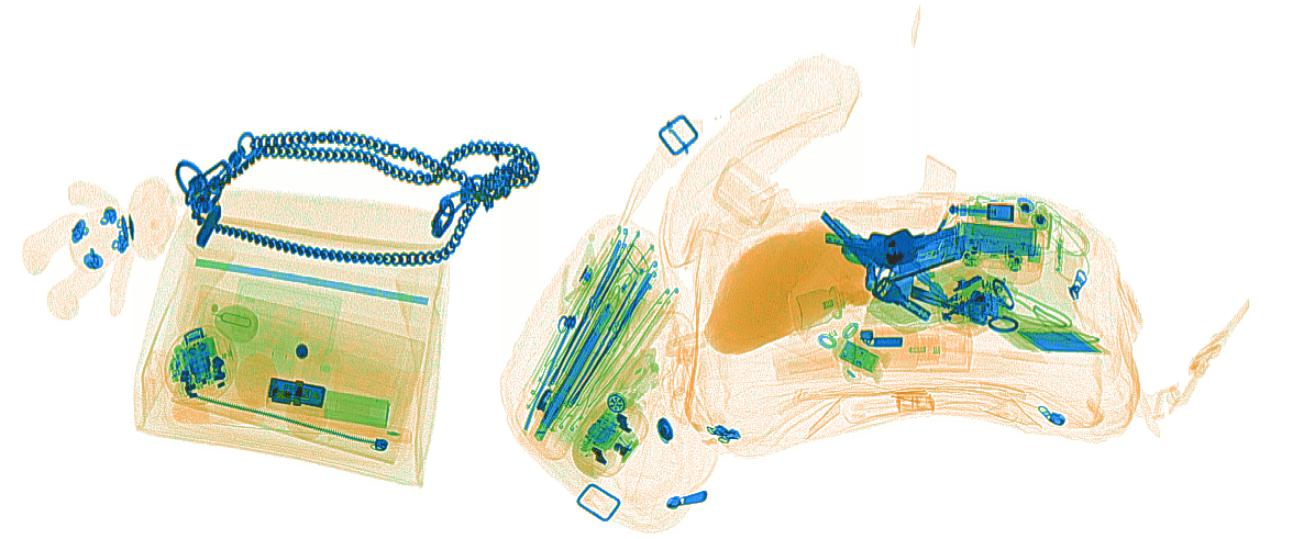USBFlashDisk: (837, 339, 881, 373)
battery: (952, 219, 1040, 257)
plasticBottleWithaNozzle: (846, 323, 969, 370)
pressure: (790, 282, 849, 332)
